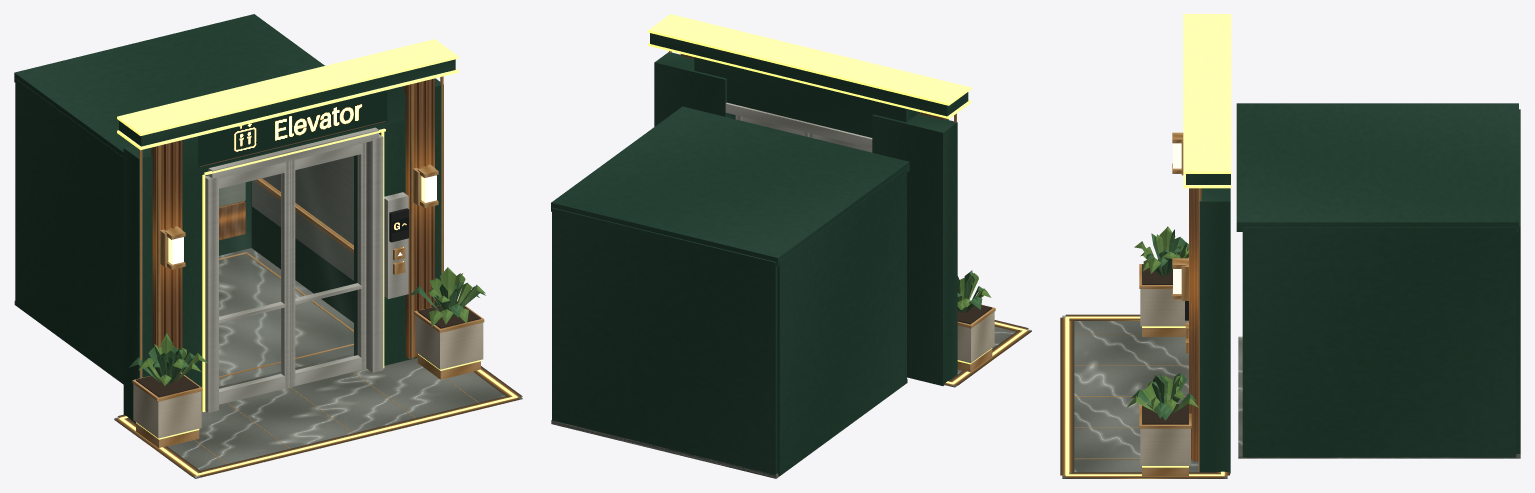
3 views of the same model, side by side, from view 1: azimuth 30°, elevation 25°; view 2: azimuth 150°, elevation 25°; view 3: azimuth 270°, elevation 25° (orthographic). The views are drawn at different scales.
Visible parts, largest first — view 1: Cabin, Portal, MarbleInlay, GoldTrim, Planters, Pilasters, ElevatorSign, DoorRight, DoorLeft, Sconces; view 2: Cabin, Portal, GoldTrim, Planters, MarbleInlay; view 3: Cabin, MarbleInlay, Portal, Planters, GoldTrim, Pilasters, Sconces.
Boxes of the visible parts, x1,y1,x2,y2 form: Cabin: [14, 14, 353, 388]; Portal: [119, 59, 455, 423]; MarbleInlay: [114, 357, 522, 478]; GoldTrim: [117, 39, 458, 412]; Planters: [129, 267, 485, 447]; Pilasters: [151, 78, 434, 372]; ElevatorSign: [198, 90, 387, 168]; DoorRight: [290, 142, 366, 387]; DoorLeft: [219, 161, 289, 404]; Sconces: [160, 164, 438, 269]; Cabin: [551, 106, 909, 478]; Portal: [650, 33, 968, 385]; GoldTrim: [648, 14, 971, 122]; Planters: [957, 270, 995, 372]; MarbleInlay: [943, 320, 1031, 387]; Cabin: [1236, 103, 1520, 458]; MarbleInlay: [1060, 314, 1229, 478]; Portal: [1185, 174, 1230, 473]; Planters: [1127, 226, 1198, 476]; GoldTrim: [1183, 14, 1231, 471]; Pilasters: [1189, 188, 1201, 461]; Sconces: [1172, 132, 1188, 300].
Bounding box in the file's own units: 4.57 × 3.81 × 5.19.
Materials: 2 (2 with a texture image).
